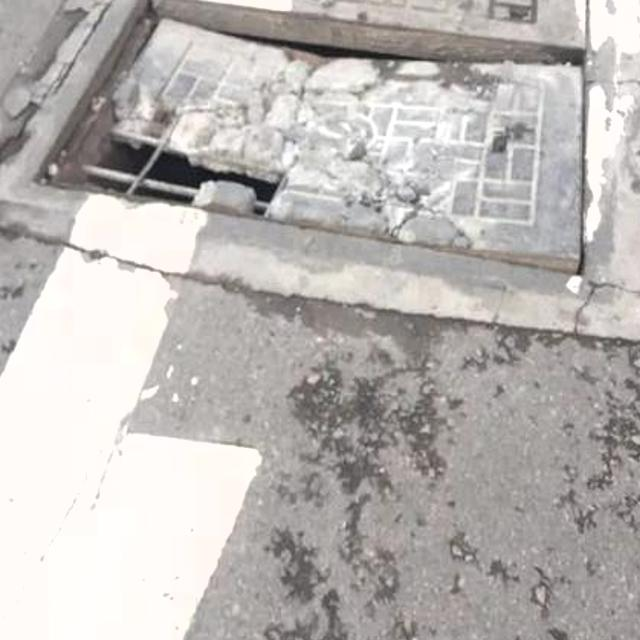broke: (0, 0, 640, 337)
